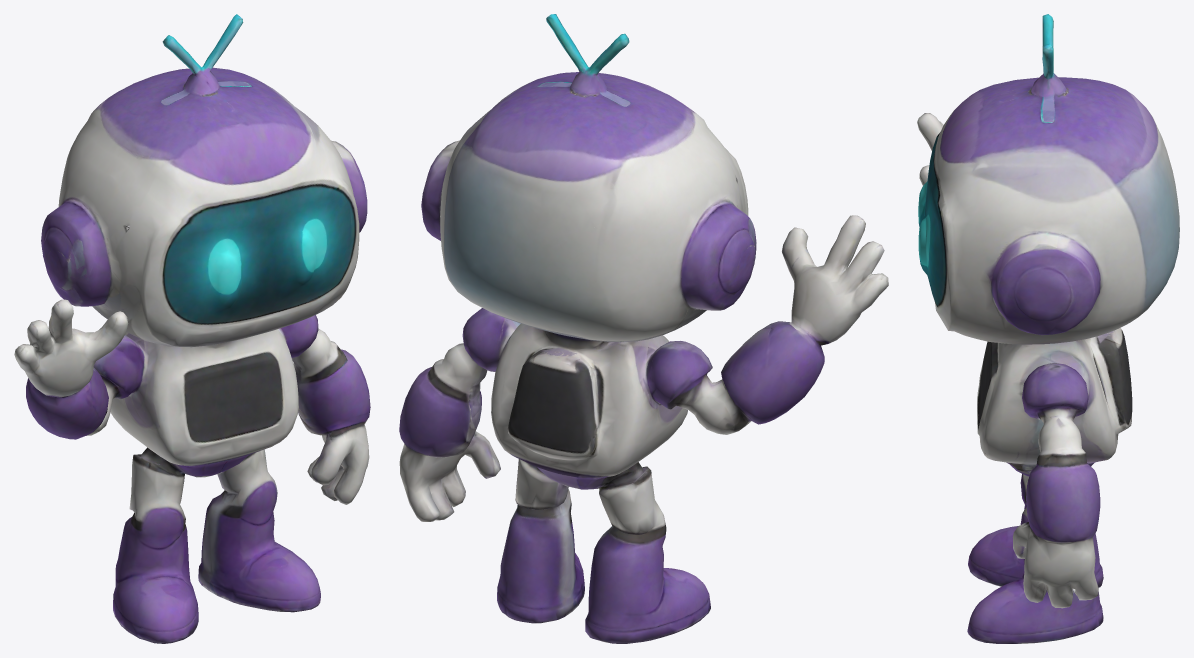
File: Robot_Waving_Hello_0429184254_texture.glb
3 views of the same model, side by side, from view 1: azimuth 30°, elevation 25°; view 2: azimuth 150°, elevation 25°; view 3: azimuth 270°, elevation 25° (orthographic). The views are drawn at different scales.
Bounding box in the file's own units: 1.5 × 2 × 0.8317.
1 material, 1 textured.
